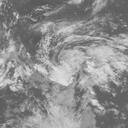cyclone: (26, 24, 112, 118)
